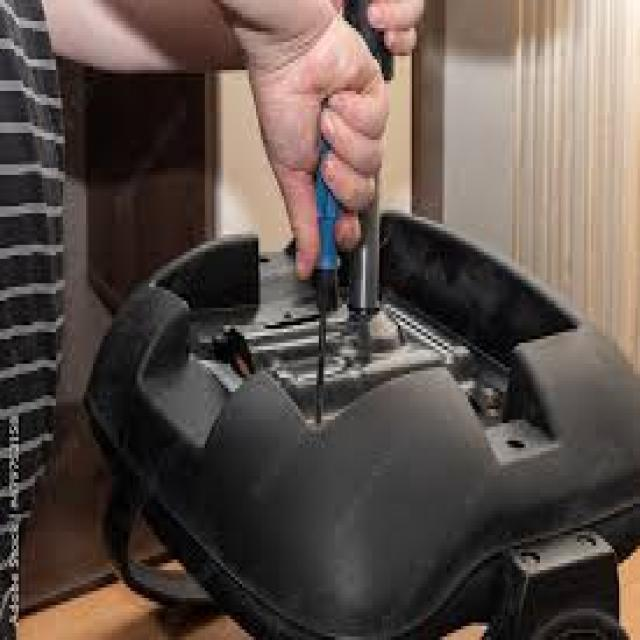screwdriver: (301, 108, 348, 440)
